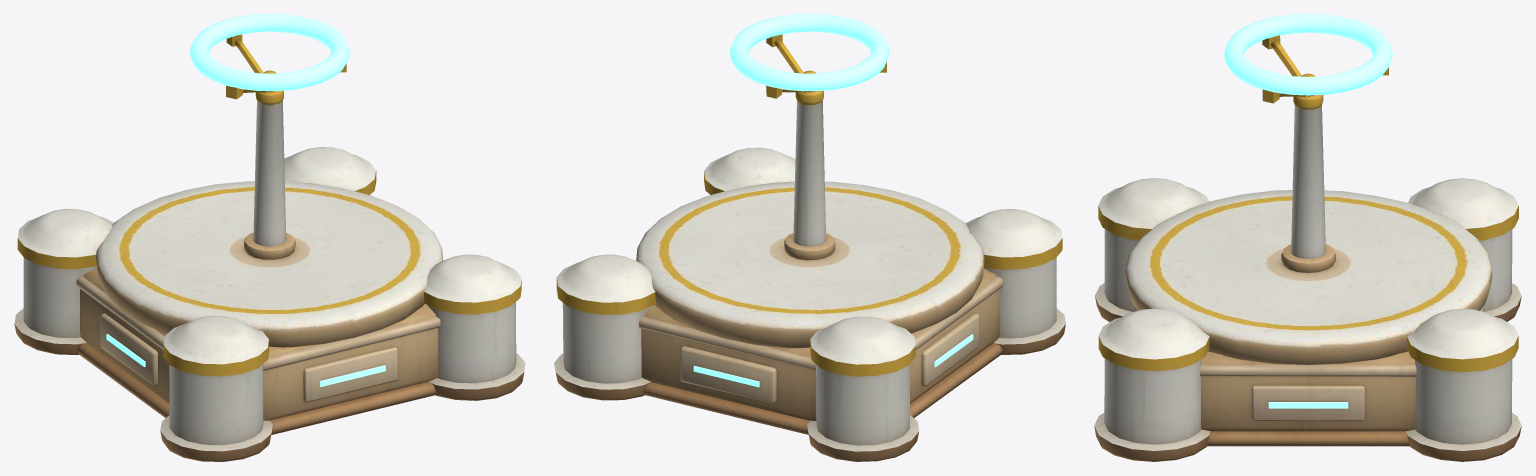
File: drone-hub.glb
The picture shows the model from 3 angles, left to right: view 1: azimuth 30°, elevation 25°; view 2: azimuth 150°, elevation 25°; view 3: azimuth 270°, elevation 25°; orthographic projection. The views are drawn at different scales.
Parts seen in each view (by area): view 1: pad, mast, ring; view 2: pad, mast, ring; view 3: pad, mast, ring.
Part boxes in pixels (bbox=[...]): pad: bbox=[14, 147, 525, 461]; mast: bbox=[226, 34, 346, 259]; ring: bbox=[190, 14, 349, 91]; pad: bbox=[554, 147, 1065, 461]; mast: bbox=[766, 34, 886, 260]; ring: bbox=[730, 14, 889, 91]; pad: bbox=[1094, 178, 1521, 461]; mast: bbox=[1262, 35, 1388, 272]; ring: bbox=[1224, 14, 1392, 95].
Bounding box in the file's own units: 1.72 × 1.46 × 1.72.
Materials: 6 (5 with a texture image).
